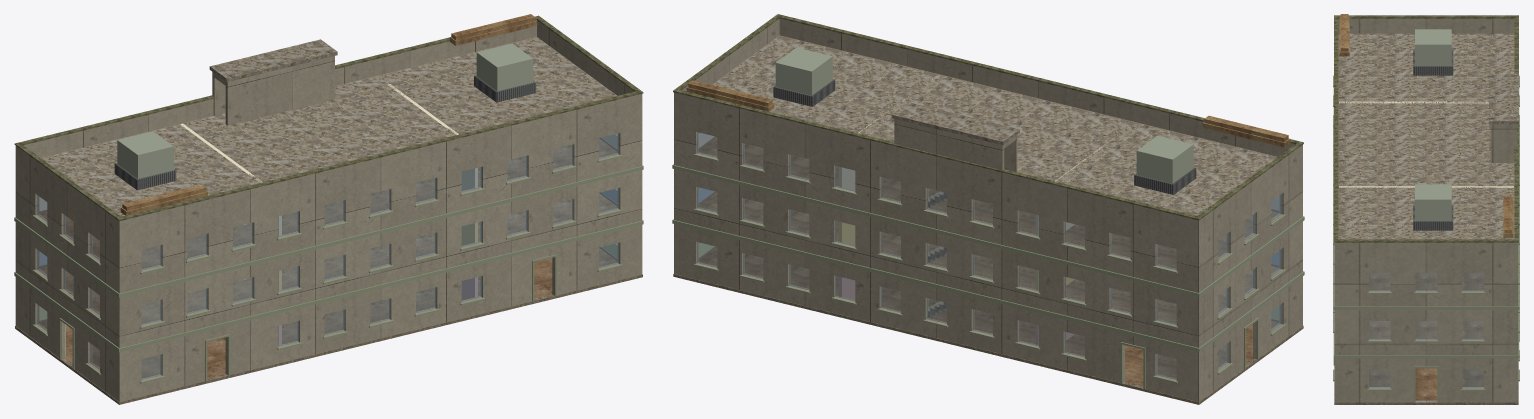
Rendered from mb-barracks-3s.garrison-v3.lod0.glb.
The picture shows the model from 3 angles, left to right: view 1: azimuth 30°, elevation 25°; view 2: azimuth 150°, elevation 25°; view 3: azimuth 270°, elevation 25°; orthographic projection. The views are drawn at different scales.
Parts seen in each view (by area): view 1: mb-barracks-3s; view 2: mb-barracks-3s; view 3: mb-barracks-3s.
Part boxes in pixels (x1,y1,x2,y2): mb-barracks-3s: [14, 14, 643, 404]; mb-barracks-3s: [672, 14, 1304, 404]; mb-barracks-3s: [1333, 14, 1519, 404].
Bounding box in the file's own units: 32.2 × 12.55 × 11.2.
Materials: 6 (4 with a texture image).
